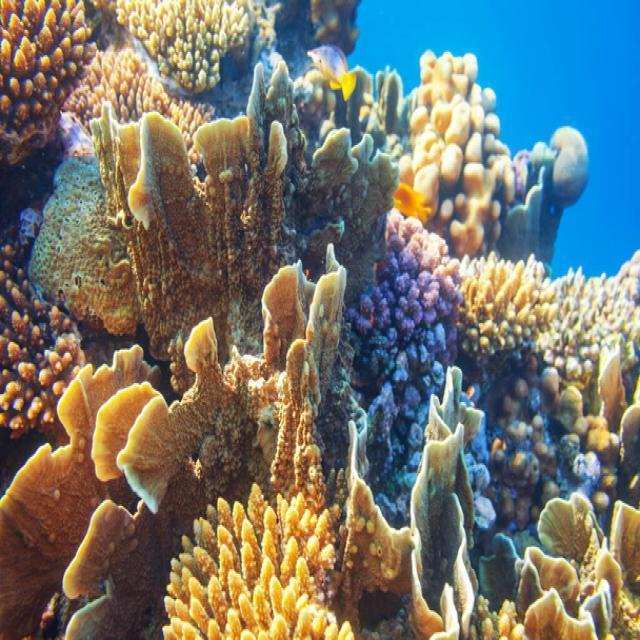Healthy Coral: (3, 202, 373, 632), (0, 255, 419, 632), (82, 95, 283, 336), (164, 486, 364, 638), (472, 241, 637, 423), (405, 360, 505, 630), (398, 36, 521, 245), (357, 224, 479, 403), (516, 463, 638, 640), (0, 0, 99, 128), (144, 3, 260, 87)
